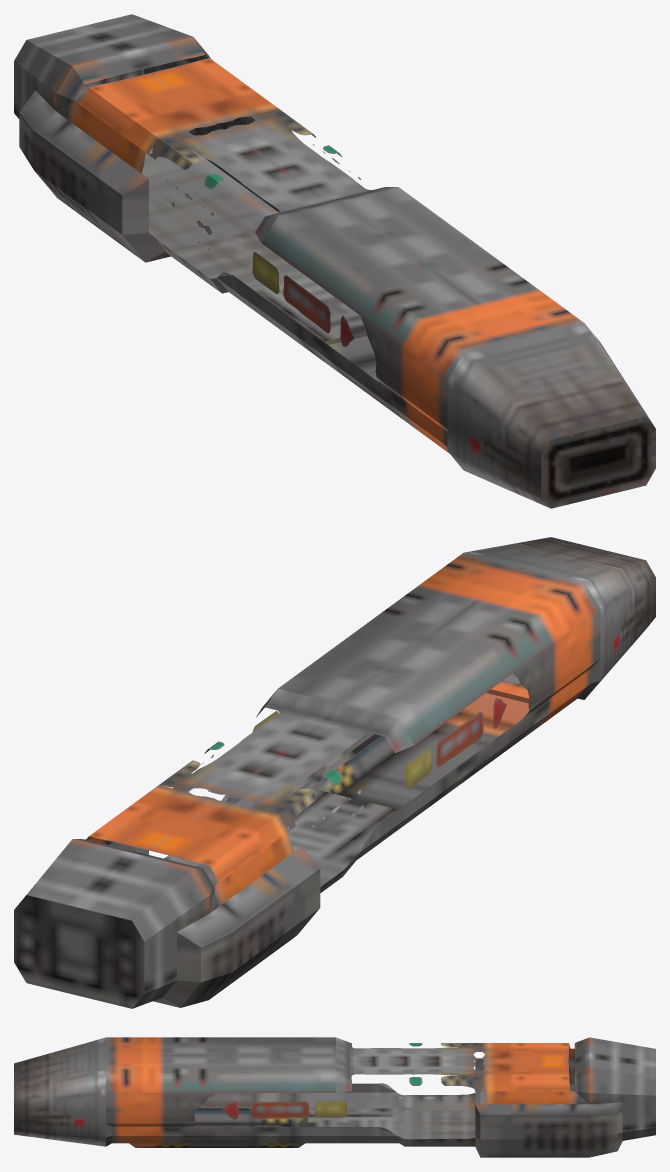
3 views of the same model, one above another, from view 1: azimuth 30°, elevation 25°; view 2: azimuth 150°, elevation 25°; view 3: azimuth 270°, elevation 25° (orthographic). The views are drawn at different scales.
Parts seen in each view (by area): view 1: PulsarGunUV; view 2: PulsarGunUV; view 3: PulsarGunUV.
Boxes of the visible parts, <box> form: PulsarGunUV: <box>14,14,655,508</box>; PulsarGunUV: <box>14,537,655,1008</box>; PulsarGunUV: <box>14,1037,655,1157</box>.
Size of the model in its own units: 3.61 by 2.47 by 17.85.
